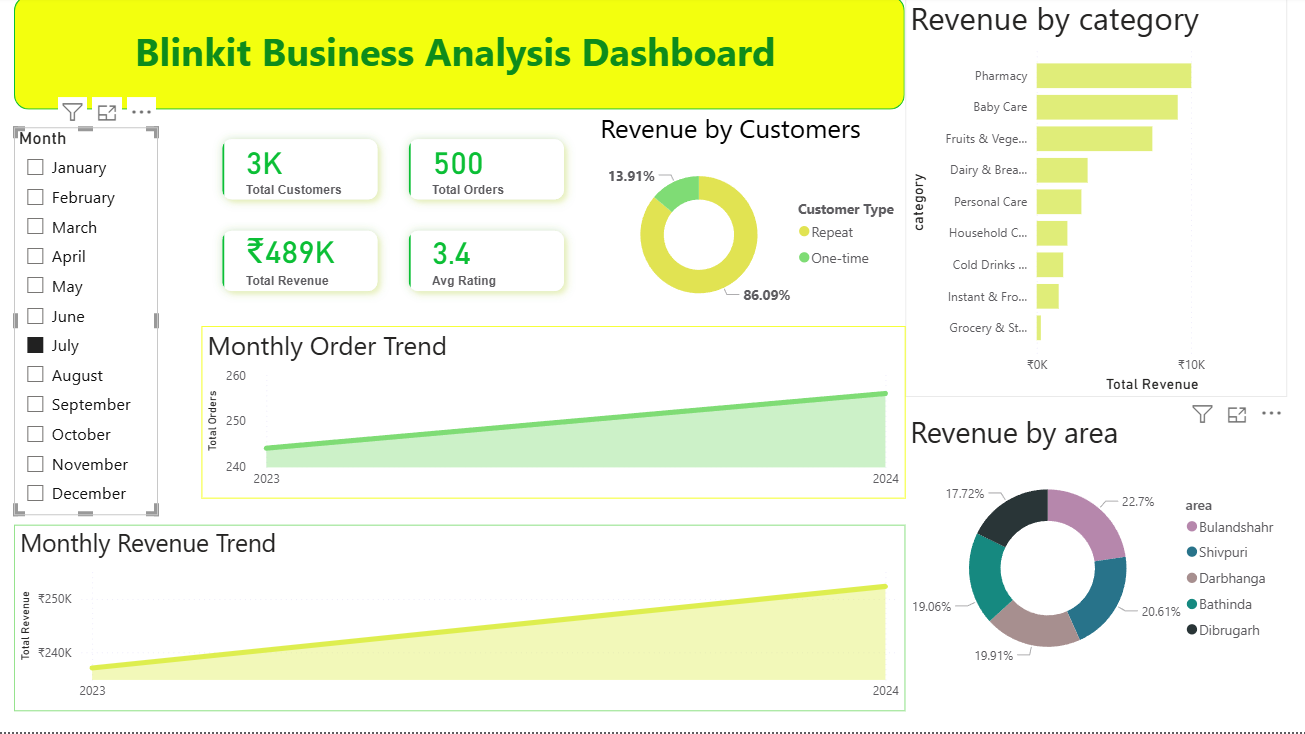

This screenshot's page, from the dashboard's own definition file:
{"tool":"powerbi","page":{"name":"Page 1","canvas":[1280,720],"ordinal":0},"visuals":[{"type":"cardVisual","fields":{"Data":["key measures.total customers","key measures.total orders","key measures.total revenue","key measures.Average Rating"]},"box":[189.5,111.3,393.8,206.7],"z":0},{"type":"donutChart","title":"Revenue by area","fields":{"Category":["blinkit_customers.area"],"Y":["key measures.Total Revenue"]},"box":[886.6,407.2,374.2,267.8],"z":1000},{"type":"lineChart","title":"Monthly Revenue Trend","fields":{"Category":["blinkit_orders.actual_delivery_time.Variation.Date Hierarchy.Year","blinkit_orders.actual_delivery_time.Variation.Date Hierarchy.Month"],"Y":["key measures.Total Revenue"]},"box":[14.7,517.3,871.9,182.2],"z":2000},{"type":"barChart","title":"Revenue by category","fields":{"Category":["blinkit_products.category"],"Y":["key measures.Total Revenue"]},"box":[886.6,0,374.2,392.5],"z":3000},{"type":"lineChart","title":"Monthly Order Trend","fields":{"Category":["blinkit_orders.actual_delivery_time.Variation.Date Hierarchy.Year","blinkit_orders.actual_delivery_time.Variation.Date Hierarchy.Month"],"Y":["key measures.Total Orders"]},"box":[198.1,322.8,688.5,168.8],"z":4000},{"type":"donutChart","title":"Revenue by Customers","fields":{"Category":["blinkit_customers.Customer Type"],"Y":["key measures.Total Revenue"]},"box":[583.2,111.1,303.3,211.3],"z":5000},{"type":"shape","box":[15.1,0,871.4,111.1],"z":6000},{"type":"textbox","box":[15.1,23.3,871.4,64.5],"z":7000},{"type":"slicer","title":"Month","fields":{"Values":["blinkit_orders.order_date.Variation.Date Hierarchy.Month"]},"box":[14.7,128.4,140.6,379.1],"z":8001}]}

Visuals, with their boxes in screenshot pixels (x1, y1, x2, y2), scaled from the page's 1280x720 canvas onto the 1305x734 screenshot:
cardVisual - key measures.total customers x key measures.total orders: 193/113/595/324
"Revenue by area" donutChart: 904/415/1285/688
"Monthly Revenue Trend" lineChart: 15/527/904/713
"Revenue by category" barChart: 904/0/1285/400
"Monthly Order Trend" lineChart: 202/329/904/501
"Revenue by Customers" donutChart: 595/113/904/329
shape: 15/0/904/113
textbox: 15/24/904/90
"Month" slicer: 15/131/158/517
